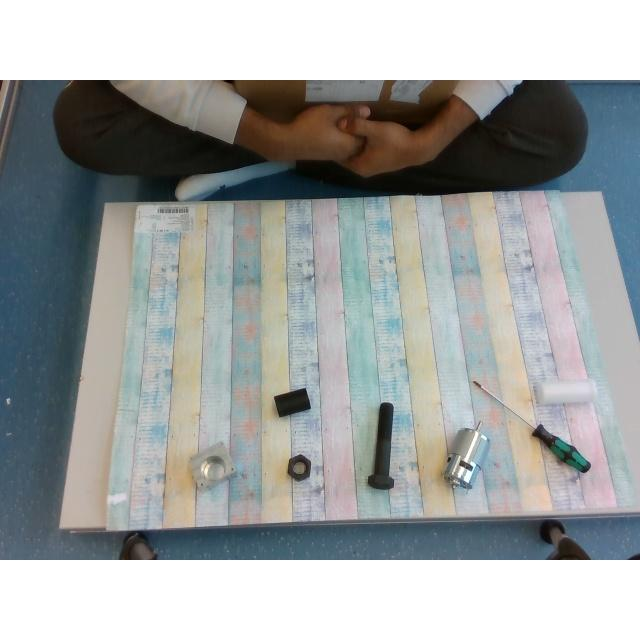M20: (286, 454, 310, 480)
M20_100: (367, 402, 393, 490)
Motor2: (443, 421, 489, 489)
Screwdriver: (472, 380, 590, 472)
Spacer: (534, 380, 596, 404)
